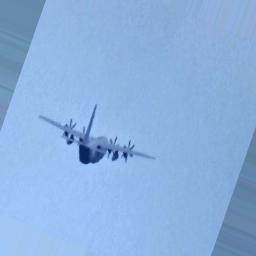Airplane: (39, 105, 158, 164)
